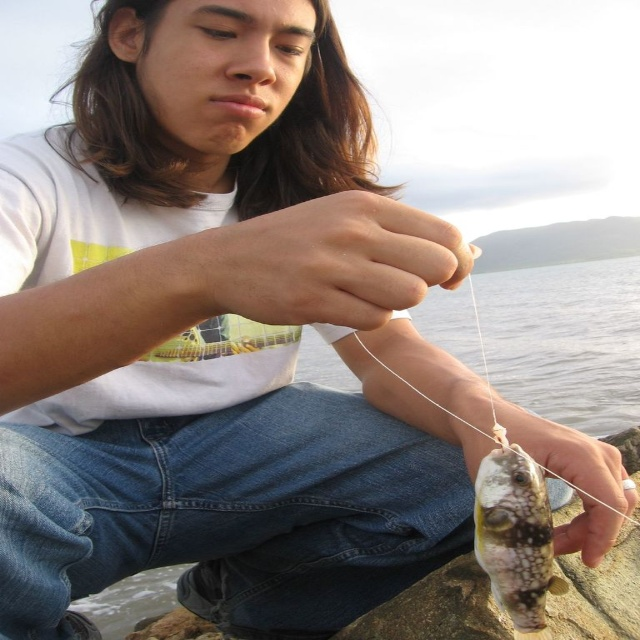Fish: (469, 436, 592, 622)
